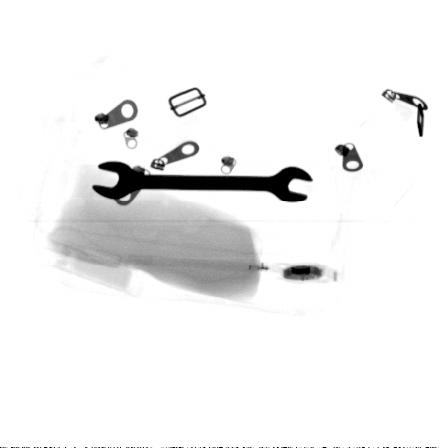Wrench: (88, 160, 314, 205)
